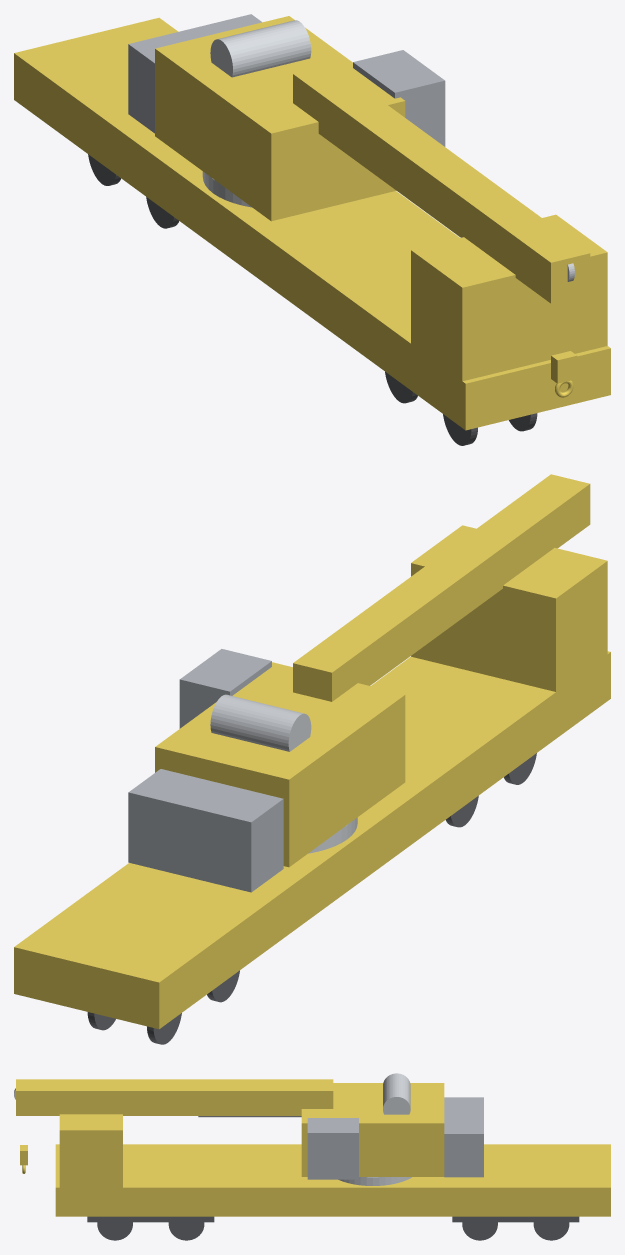
Rendered from modele.glb.
3 renders of one model, top to bottom at view 1: azimuth 30°, elevation 25°; view 2: azimuth 150°, elevation 25°; view 3: azimuth 270°, elevation 25°, orthographic. The views are drawn at different scales.
Parts seen in each view (by area): view 1: porteur, caisse_tourelle, fleche, cabine_conduite, cabine_grutier, treuil, contrepoids, bogie_grue_1, crochet_grue, bogie_grue_2; view 2: porteur, caisse_tourelle, fleche, cabine_conduite, contrepoids, treuil, cabine_grutier, bogie_grue_2, bogie_grue_1; view 3: porteur, fleche, caisse_tourelle, cabine_conduite, contrepoids, cabine_grutier, bogie_grue_1, bogie_grue_2, treuil, couronne_orientation.
Part boxes in pixels (x1,y1,x2,y2): porteur: (14, 17, 610, 430); caisse_tourelle: (155, 16, 405, 221); fleche: (293, 64, 590, 303); cabine_conduite: (411, 214, 607, 381); cabine_grutier: (353, 50, 445, 146); treuil: (210, 20, 311, 77); contrepoids: (128, 14, 261, 133); bogie_grue_1: (385, 372, 537, 445); crochet_grue: (551, 351, 577, 397); bogie_grue_2: (88, 154, 178, 228); porteur: (14, 651, 610, 1029); caisse_tourelle: (155, 662, 405, 867); fleche: (293, 474, 590, 701); cabine_conduite: (411, 525, 607, 691); contrepoids: (128, 769, 283, 892); treuil: (210, 694, 311, 751); cabine_grutier: (179, 649, 271, 728); bogie_grue_2: (87, 970, 239, 1044); bogie_grue_1: (446, 753, 536, 827); porteur: (55, 1144, 610, 1216); fleche: (16, 1079, 333, 1115); caisse_tourelle: (301, 1083, 444, 1176); cabine_conduite: (59, 1114, 122, 1187); contrepoids: (444, 1097, 483, 1177); cabine_grutier: (307, 1118, 358, 1179); bogie_grue_1: (87, 1216, 214, 1240); bogie_grue_2: (452, 1216, 579, 1240); treuil: (383, 1073, 410, 1114); couronne_orientation: (338, 1177, 411, 1185).
Bounding box in the file's own units: 3.3 × 4.05 × 15.05.
